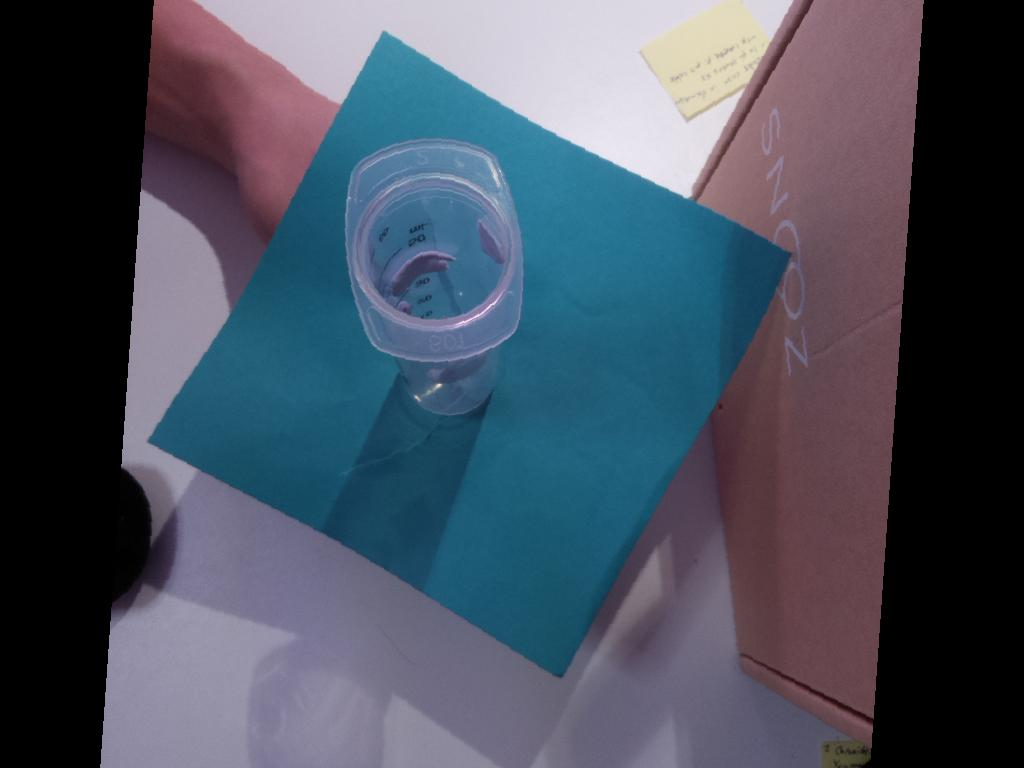dirty: (345, 139, 523, 361)
